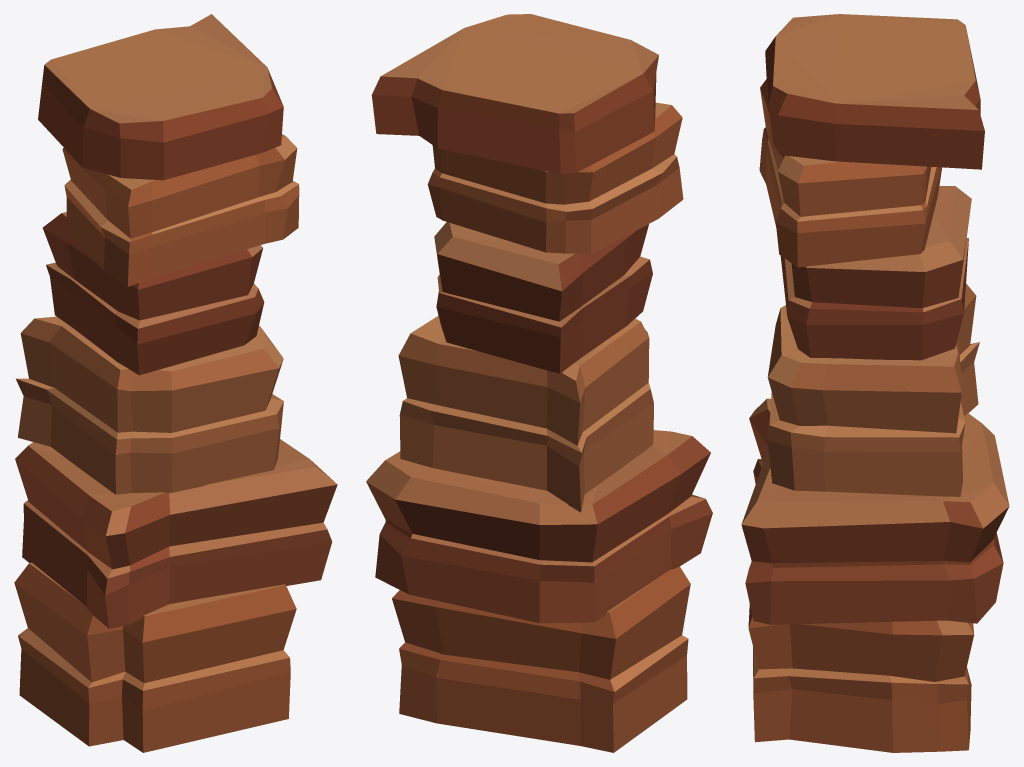
The model's file is sandstone_b.glb.
3 renders of one model, left to right at view 1: azimuth 30°, elevation 25°; view 2: azimuth 150°, elevation 25°; view 3: azimuth 270°, elevation 25°, orthographic. The views are drawn at different scales.
Parts seen in each view (by area): view 1: sandstone_b; view 2: sandstone_b; view 3: sandstone_b.
Part boxes in pixels (x1=…): sandstone_b: x1=14, y1=14, x2=337, y2=752; sandstone_b: x1=366, y1=14, x2=712, y2=752; sandstone_b: x1=741, y1=14, x2=1009, y2=752.
Bounding box in the file's own units: 5.48 × 14.11 × 5.29.
